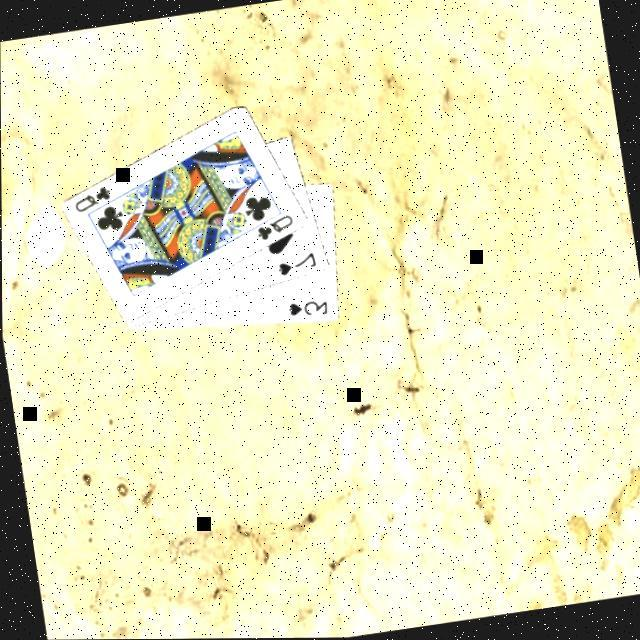3S: (281, 295, 330, 323)
7S: (270, 249, 319, 279)
QC: (66, 181, 114, 216), (250, 210, 296, 245)
